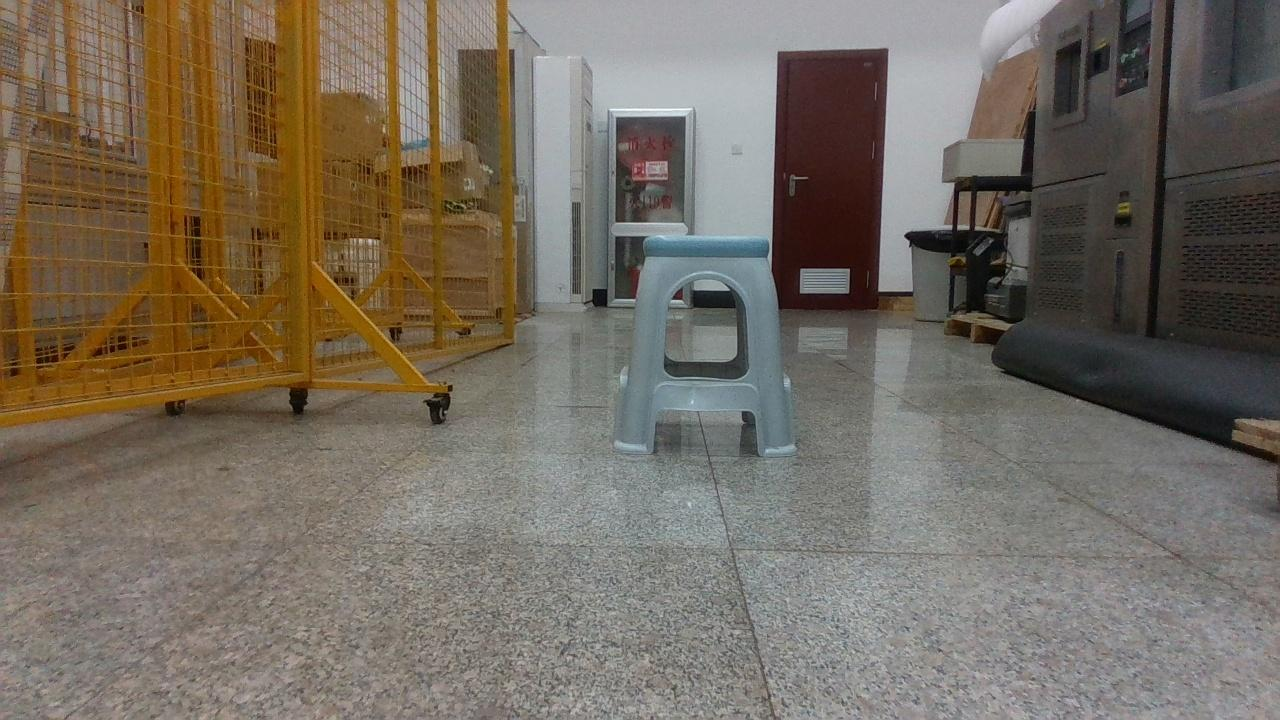stool: (615, 235, 795, 458)
